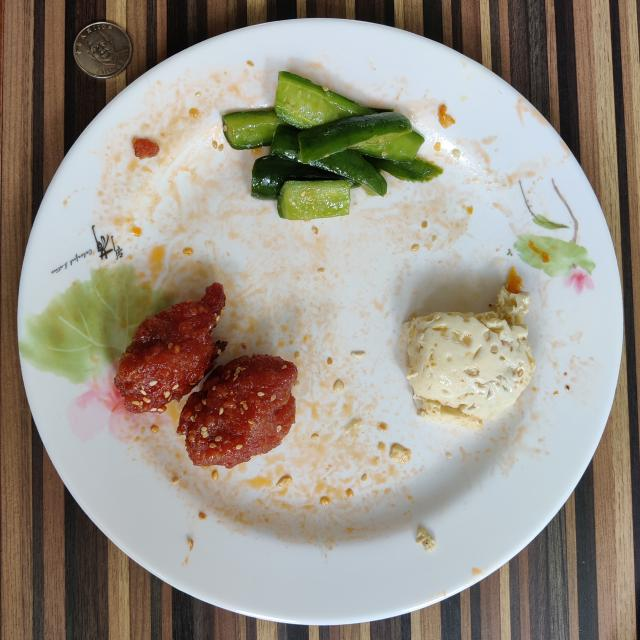coin: (74, 21, 131, 79)
cucumber: (222, 71, 442, 220)
